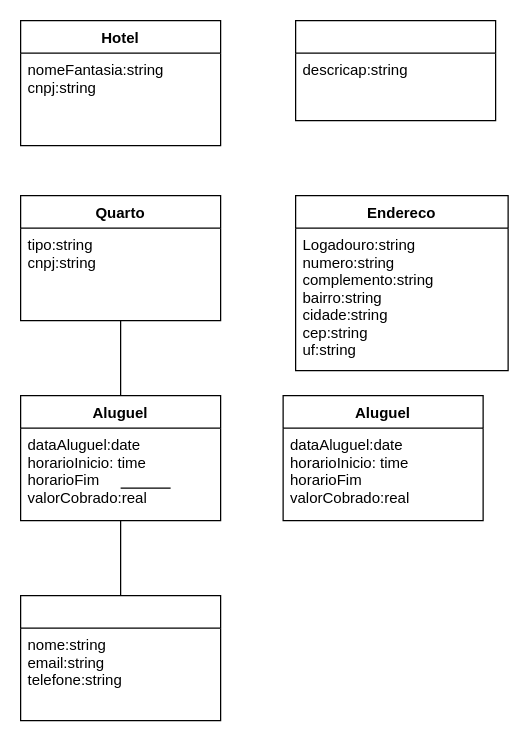
This 529x741 diagram has some shape labels left out. Each missing label, with the box of its shape:
Cliente: (19, 594, 221, 721)
ItemHotel: (294, 19, 496, 121)
